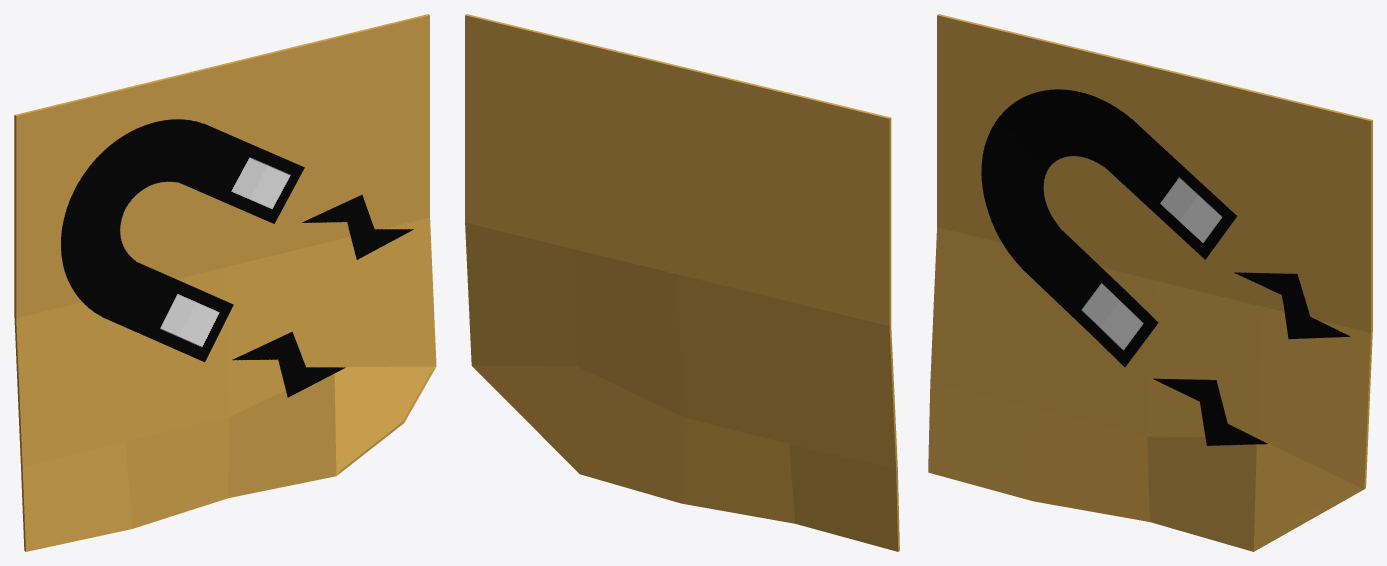
Rendered from MagnetSticker.fbx.
3 views of the same model, side by side, from view 1: azimuth 30°, elevation 25°; view 2: azimuth 150°, elevation 25°; view 3: azimuth 330°, elevation 25° (orthographic). The views are drawn at different scales.
Visible parts, largest first — view 1: Plane, magnetic-g55c38339d_1280; view 2: Plane; view 3: Plane, magnetic-g55c38339d_1280.
Boxes of the visible parts, <box> form: Plane: <box>14,14,436,551</box>; magnetic-g55c38339d_1280: <box>61,119,413,397</box>; Plane: <box>465,14,899,551</box>; Plane: <box>928,14,1372,551</box>; magnetic-g55c38339d_1280: <box>981,89,1350,445</box>.
Bounding box in the file's own units: 200 × 198 × 21.91.
2 materials, 1 textured.
